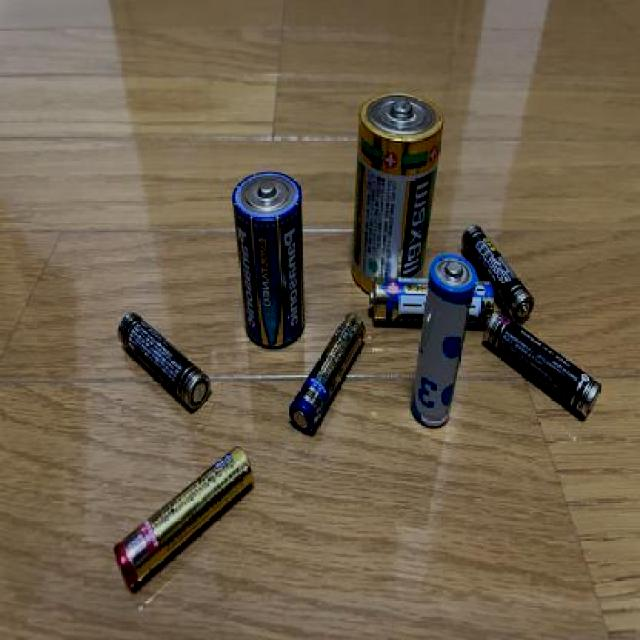AA: (112, 443, 257, 592), (408, 252, 478, 431)
AAA: (114, 309, 212, 414), (288, 311, 367, 438)
